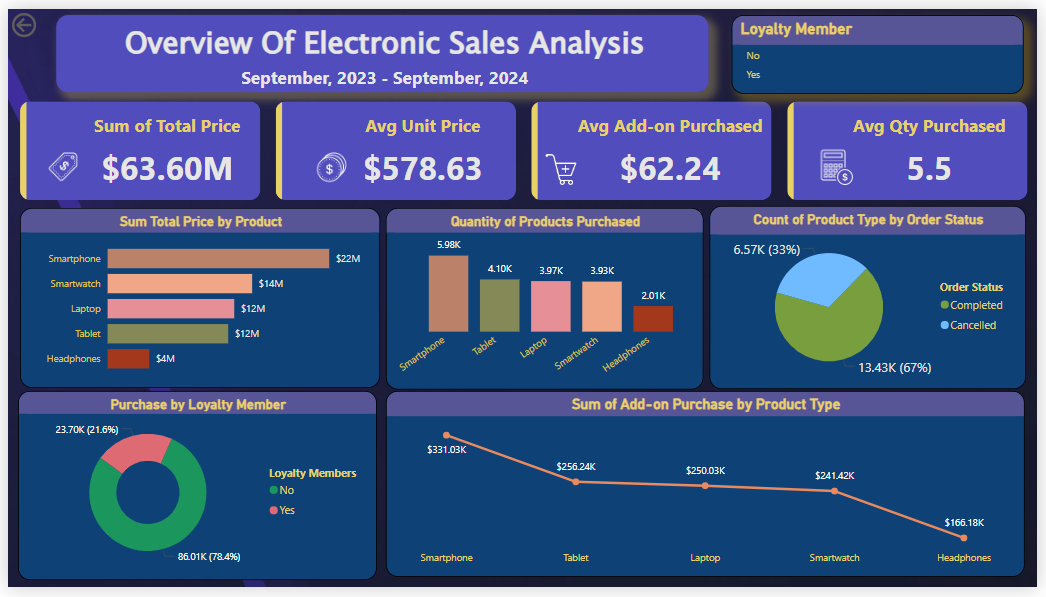

This screenshot's page, from the dashboard's own definition file:
{"tool":"powerbi","page":{"name":"Page 1","canvas":[1280,720],"ordinal":0},"visuals":[{"type":"textbox","title":"Overview Of Electronic Sales Analysis","box":[60,10,812.5,82.5],"z":0},{"type":"cardVisual","fields":{"Data":["Sum(Electronic_sales_Sep2023-Sep2024.Total Price)","Avg(Electronic_sales_Sep2023-Sep2024.Unit Price)","Avg(Electronic_sales_Sep2023-Sep2024.Add-on Total)","Avg(Electronic_sales_Sep2023-Sep2024.Quantity)"]},"box":[10,80,1262.5,175],"z":1000},{"type":"columnChart","title":"Quantity of Products Purchased","fields":{"Category":["Electronic_sales_Sep2023-Sep2024.Product Type"],"Y":["CountNonNull(Electronic_sales_Sep2023-Sep2024.Quantity)"]},"box":[470,240,395,227.5],"z":2000},{"type":"clusteredBarChart","title":"Sum Total Price by Product ","fields":{"Y":["Sum(Electronic_sales_Sep2023-Sep2024.Total Price)"],"Category":["Electronic_sales_Sep2023-Sep2024.Product Type"]},"box":[15,235,447.5,230],"z":3000},{"type":"lineChart","fields":{"Y":["Sum(Electronic_sales_Sep2023-Sep2024.Add-on Purchase)"],"Category":["Electronic_sales_Sep2023-Sep2024.Product Type"]},"box":[470,475,795,230],"z":4000},{"type":"actionButton","box":[0,0,100,40],"z":5000},{"type":"donutChart","title":"Purchase by Loyalty Member","fields":{"Y":["Sum(Electronic_sales_Sep2023-Sep2024.Quantity)"],"Series":["Electronic_sales_Sep2023-Sep2024.Loyalty Member"]},"box":[12.5,472.5,447.5,235],"z":6000},{"type":"AttributeSlicer1652434005853","fields":{"Category":["Electronic_sales_Sep2023-Sep2024.Loyalty Member"]},"box":[900,2.5,362.5,97.5],"z":7000},{"type":"pieChart","fields":{"Category":["Electronic_sales_Sep2023-Sep2024.Order Status"],"Y":["CountNonNull(Electronic_sales_Sep2023-Sep2024.Product Type)"]},"box":[872.5,237.5,395,227.5],"z":8000}]}

Visuals, with their boxes in screenshot pixels (x1, y1, x2, y2), scaled from the page's 1280x720 canvas onto the 1046x597 screenshot:
"Overview Of Electronic Sales Analysis" textbox: [x1=49, y1=8, x2=713, y2=77]
cardVisual - Sum(Electronic_sales_Sep2023-Sep2024.Total Price) x Avg(Electronic_sales_Sep2023-Sep2024.Unit Price): [x1=8, y1=66, x2=1040, y2=211]
"Quantity of Products Purchased" columnChart: [x1=384, y1=199, x2=707, y2=388]
"Sum Total Price by Product " clusteredBarChart: [x1=12, y1=195, x2=378, y2=386]
lineChart - Sum(Electronic_sales_Sep2023-Sep2024.Add-on Purchase) x Electronic_sales_Sep2023-Sep2024.Product Type: [x1=384, y1=394, x2=1034, y2=585]
actionButton: [x1=0, y1=0, x2=82, y2=33]
"Purchase by Loyalty Member" donutChart: [x1=10, y1=392, x2=376, y2=587]
AttributeSlicer1652434005853 - Electronic_sales_Sep2023-Sep2024.Loyalty Member: [x1=735, y1=2, x2=1032, y2=83]
pieChart - Electronic_sales_Sep2023-Sep2024.Order Status x CountNonNull(Electronic_sales_Sep2023-Sep2024.Product Type): [x1=713, y1=197, x2=1036, y2=386]
